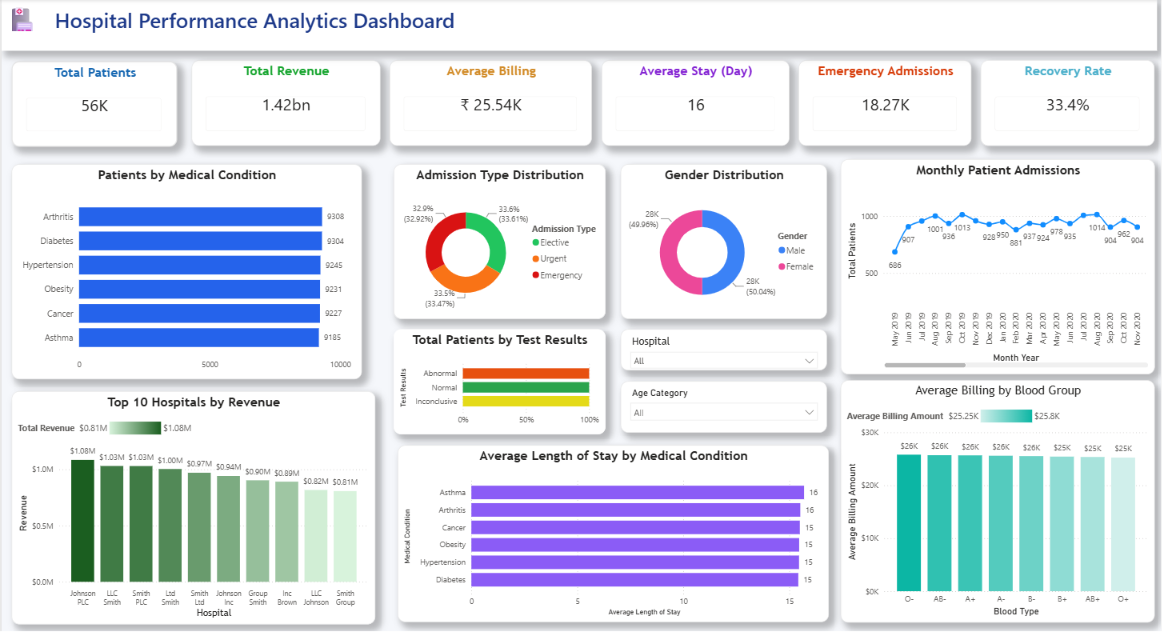

The dashboard page shown, as its layout file describes it:
{"tool":"powerbi","page":{"name":"Page 1","canvas":[1800,1000],"ordinal":0},"visuals":[{"type":"cardVisual","title":"Total Revenue","fields":{"Data":["healthcare_dataset.Total Revenue"]},"box":[294.3,94.8,292.7,132.4],"z":0},{"type":"cardVisual","title":"Total Patients","fields":{"Data":["healthcare_dataset.Total Patients"]},"box":[16,96,256.7,132.4],"z":1000},{"type":"cardVisual","title":"Average Billing","fields":{"Data":["healthcare_dataset.Average Billing Amount"]},"box":[601.7,94.8,314,132.4],"z":2000},{"type":"cardVisual","title":"Average Stay (Day)","fields":{"Data":["healthcare_dataset.Average Length of Stay"]},"box":[930.4,94.8,291.1,132.4],"z":3000},{"type":"cardVisual","title":"Emergency Admissions","fields":{"Data":["healthcare_dataset.Emergency Admissions"]},"box":[1236.2,94.8,268.2,132.4],"z":4000},{"type":"clusteredBarChart","title":"Patients by Medical Condition  ","fields":{"Category":["healthcare_dataset.Medical Condition"],"Y":["healthcare_dataset.Total Patients"]},"box":[16,256,542.9,333.6],"z":5000},{"type":"textbox","box":[0,0,1792,80],"z":6000},{"type":"lineChart","title":"Monthly Patient Admissions","fields":{"Category":["healthcare_dataset.Month Year"],"Y":["healthcare_dataset.Total Patients"]},"box":[1301.6,248.5,487.3,333.6],"z":8000},{"type":"cardVisual","title":"Recovery Rate","fields":{"Data":["healthcare_dataset.Recovery Rate"]},"box":[1519.1,94.8,269.8,132.4],"z":9000},{"type":"donutChart","title":"Gender Distribution","fields":{"Category":["healthcare_dataset.Gender"],"Y":["healthcare_dataset.Total Patients"]},"box":[960,256,320,240],"z":10000},{"type":"donutChart","title":"Admission Type Distribution","fields":{"Category":["healthcare_dataset.Admission Type"],"Y":["healthcare_dataset.Total Patients"]},"box":[608,256,328.7,240.4],"z":11000},{"type":"clusteredColumnChart","title":"Top 10 Hospitals by Revenue","fields":{"Category":["healthcare_dataset.Hospital"],"Y":["healthcare_dataset.Total Revenue"]},"box":[16,608,564.1,361.4],"z":12000},{"type":"hundredPercentStackedBarChart","fields":{"Category":["healthcare_dataset.Test Results"],"Y":["healthcare_dataset.Total Patients"]},"box":[608,512,328.7,163.5],"z":13000},{"type":"slicer","fields":{"Values":["healthcare_dataset.Hospital"]},"box":[960,512,320,64],"z":14000},{"type":"slicer","fields":{"Values":["healthcare_dataset.Age Category"]},"box":[960,592,320,80],"z":15000},{"type":"clusteredColumnChart","title":"Average Billing by Blood Group","fields":{"Category":["healthcare_dataset.Blood Type"],"Y":["healthcare_dataset.Average Billing Amount"]},"box":[1301.6,590.3,487,376],"z":16000},{"type":"clusteredBarChart","fields":{"Category":["healthcare_dataset.Medical Condition"],"Y":["healthcare_dataset.Average Length of Stay"]},"box":[614.8,691.7,668.8,274.7],"z":17000}]}

Visuals, with their boxes in screenshot pixels (x1, y1, x2, y2), scaled from the page's 1800x1000 canvas onto the 1162x632 screenshot:
"Total Revenue" cardVisual: bbox=[190, 60, 379, 144]
"Total Patients" cardVisual: bbox=[10, 61, 176, 144]
"Average Billing" cardVisual: bbox=[388, 60, 591, 144]
"Average Stay (Day)" cardVisual: bbox=[601, 60, 789, 144]
"Emergency Admissions" cardVisual: bbox=[798, 60, 971, 144]
"Patients by Medical Condition  " clusteredBarChart: bbox=[10, 162, 361, 373]
textbox: bbox=[0, 0, 1157, 51]
"Monthly Patient Admissions" lineChart: bbox=[840, 157, 1155, 368]
"Recovery Rate" cardVisual: bbox=[981, 60, 1155, 144]
"Gender Distribution" donutChart: bbox=[620, 162, 826, 313]
"Admission Type Distribution" donutChart: bbox=[392, 162, 605, 314]
"Top 10 Hospitals by Revenue" clusteredColumnChart: bbox=[10, 384, 374, 613]
hundredPercentStackedBarChart - healthcare_dataset.Test Results x healthcare_dataset.Total Patients: bbox=[392, 324, 605, 427]
slicer - healthcare_dataset.Hospital: bbox=[620, 324, 826, 364]
slicer - healthcare_dataset.Age Category: bbox=[620, 374, 826, 425]
"Average Billing by Blood Group" clusteredColumnChart: bbox=[840, 373, 1155, 611]
clusteredBarChart - healthcare_dataset.Medical Condition x healthcare_dataset.Average Length of Stay: bbox=[397, 437, 829, 611]
